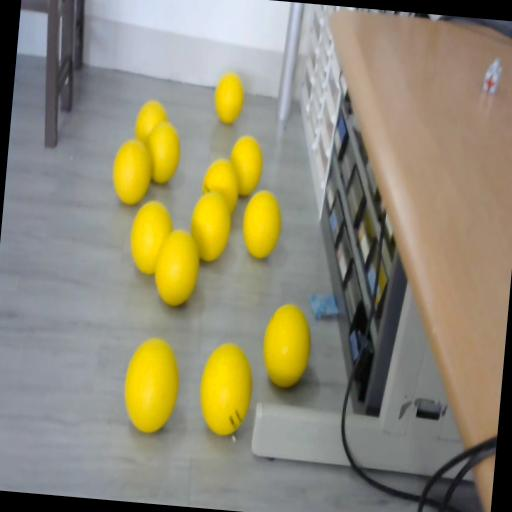FUEL: (120, 334, 183, 436), (196, 340, 256, 438), (258, 300, 314, 390), (150, 226, 203, 308), (187, 188, 234, 264), (240, 188, 284, 260), (110, 138, 154, 206), (143, 118, 183, 186), (227, 134, 266, 198), (212, 70, 246, 124)
